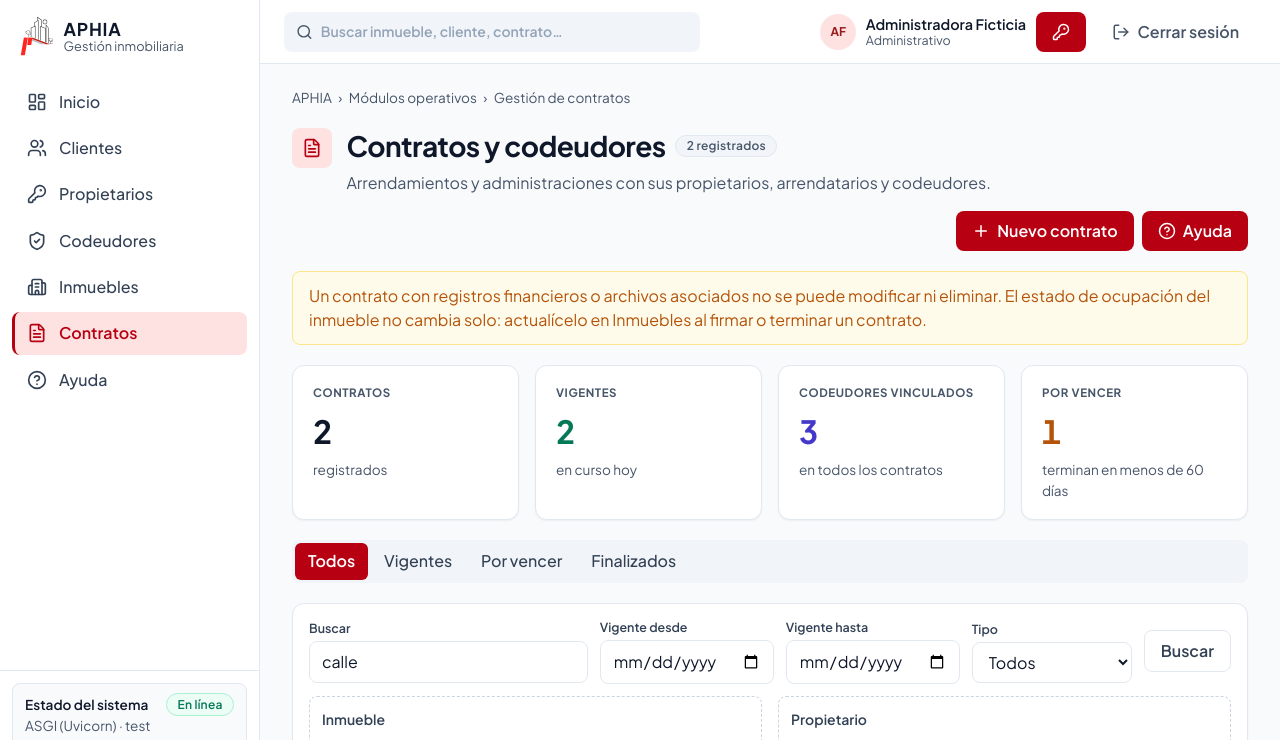
Scenario: ContratosPage › cambia de pestaña, restablece filtros y muestra el 409 al eliminar
Click the button "Finalizados".
click(634, 561)  # box [578,543,689,580]
(page scrolled)
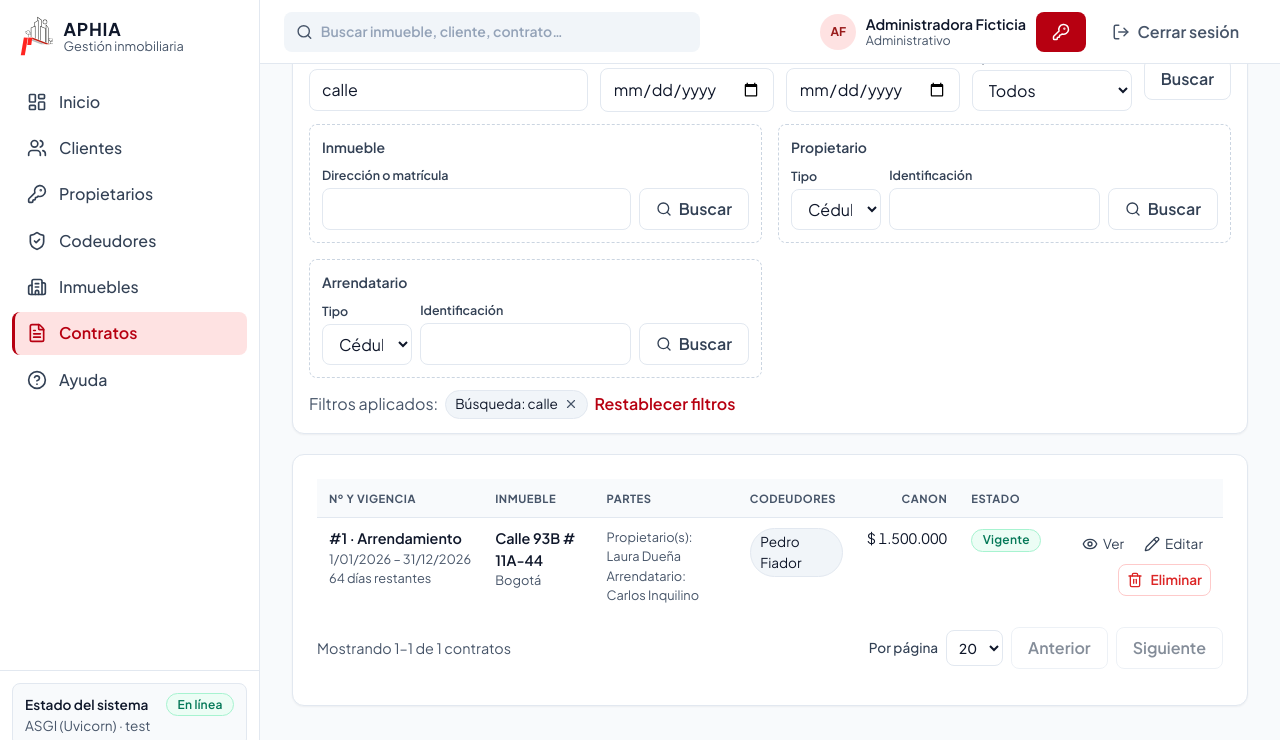
Click the button "Restablecer filtros".
click(665, 404)  # box [595,392,735,416]
(page scrolled)
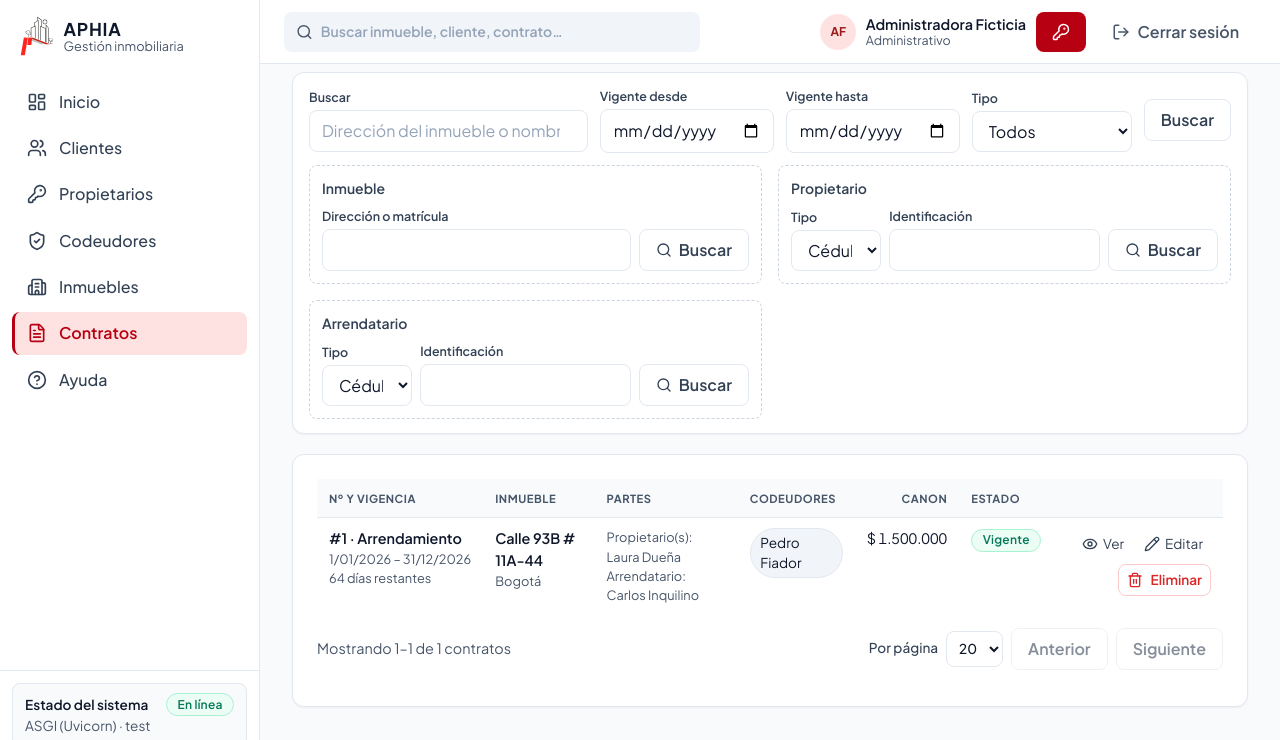
Click the button with aria-label "Eliminar contrato 1".
click(1165, 580)  # box [1118,564,1211,596]
(page scrolled)
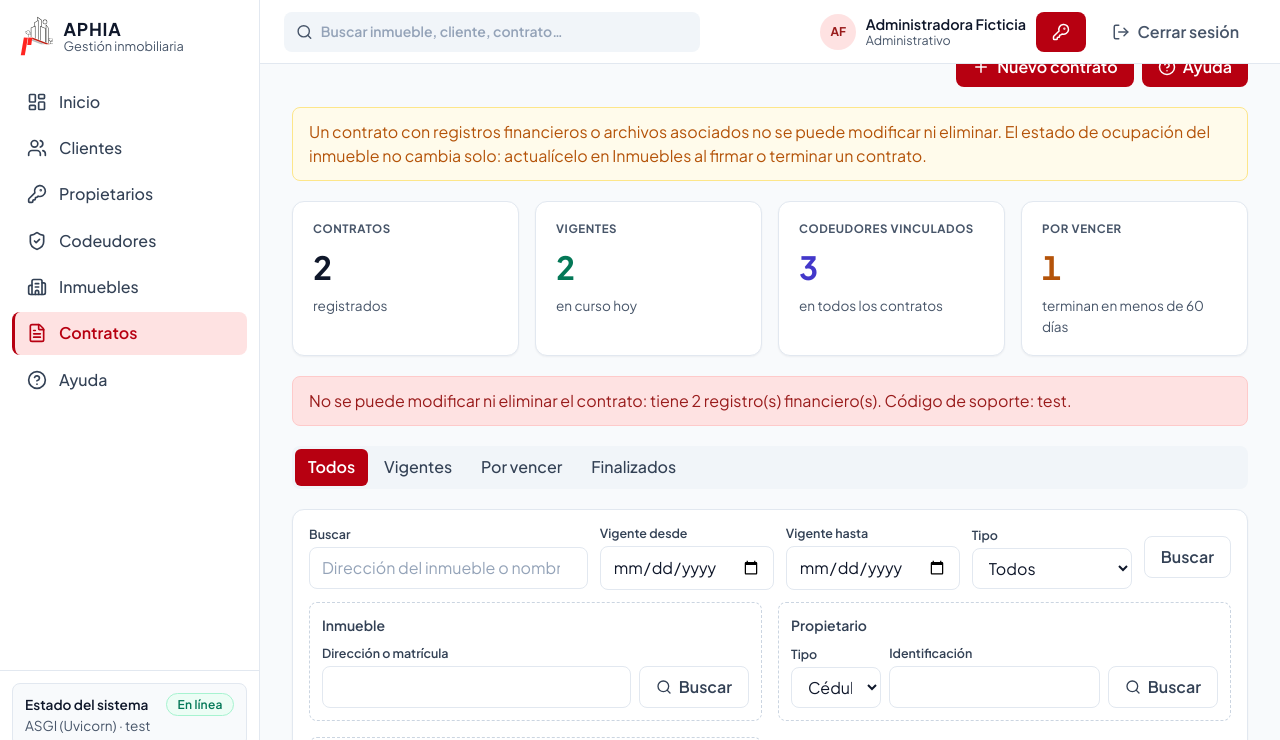
Result: the message shows "2 registro(s) financiero(s)" at [309,390,1072,411]
